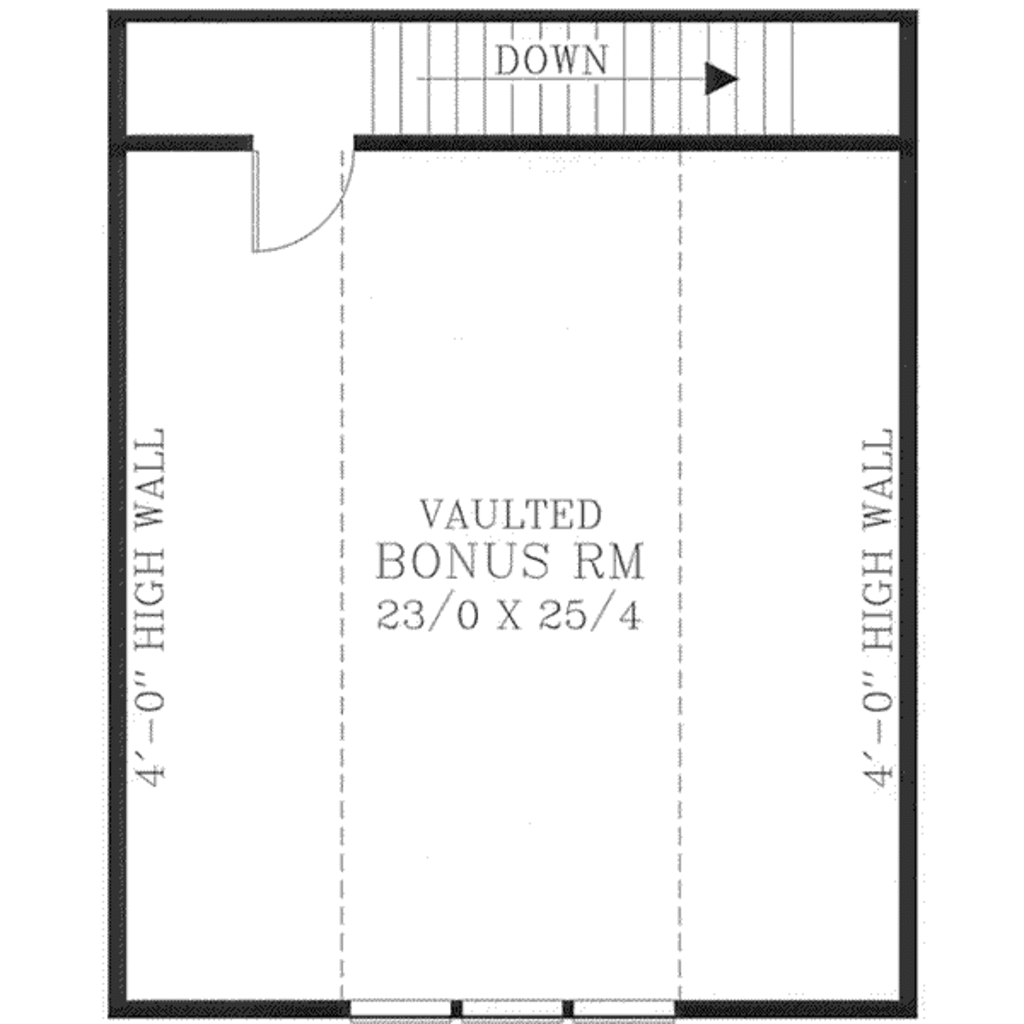door: (242, 146, 367, 253)
stairs: (355, 27, 813, 150)
windows: (350, 999, 689, 1024)
